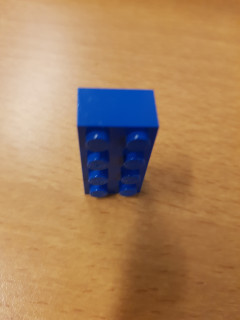2x4 blue: (74, 84, 162, 200)
